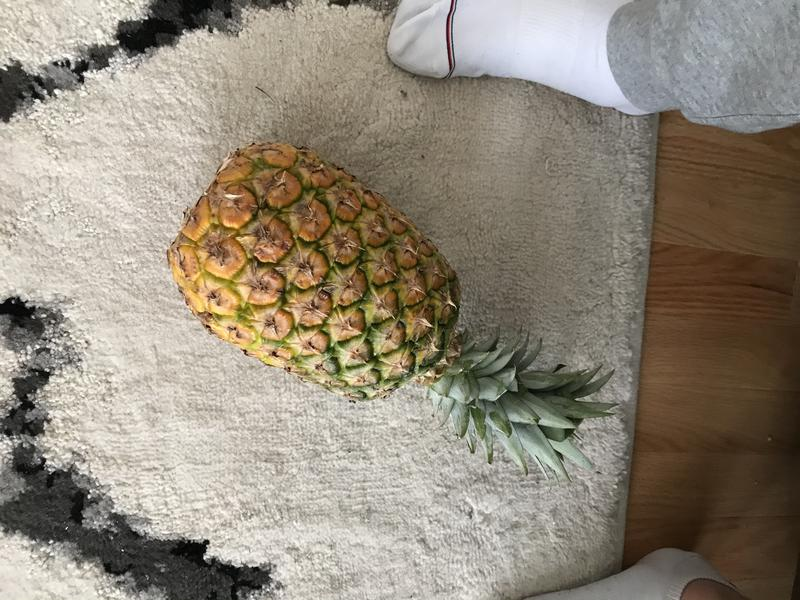pineapple: (162, 134, 609, 487)
